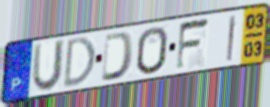D: (62, 35, 98, 91), (99, 30, 136, 84)
F: (174, 15, 212, 73)
I: (225, 13, 239, 63)
O: (136, 25, 170, 77)
U: (30, 37, 67, 94)
